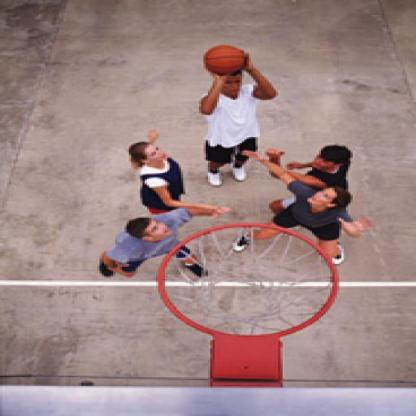basketball: (201, 45, 249, 72)
rim: (158, 224, 342, 343)
